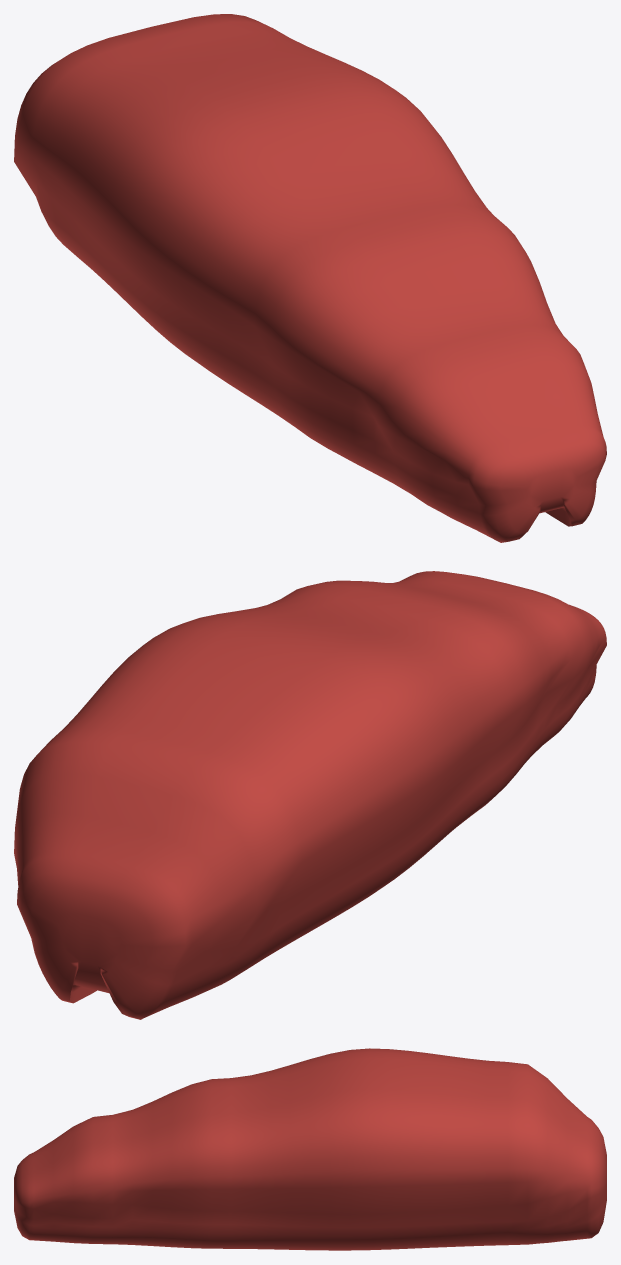
The model's file is sport.glb.
3 views of the same model, one above another, from view 1: azimuth 30°, elevation 25°; view 2: azimuth 150°, elevation 25°; view 3: azimuth 270°, elevation 25° (orthographic). The views are drawn at different scales.
Visible parts, largest first — view 1: lod0; view 2: lod0; view 3: lod0.
Part boxes in pixels (x1,y1,x2,y2): lod0: (14, 14, 606, 542); lod0: (14, 571, 606, 1019); lod0: (14, 1048, 606, 1250).
Size of what is drawn, in the model's own units: 0.3793 by 0.294 by 1.
